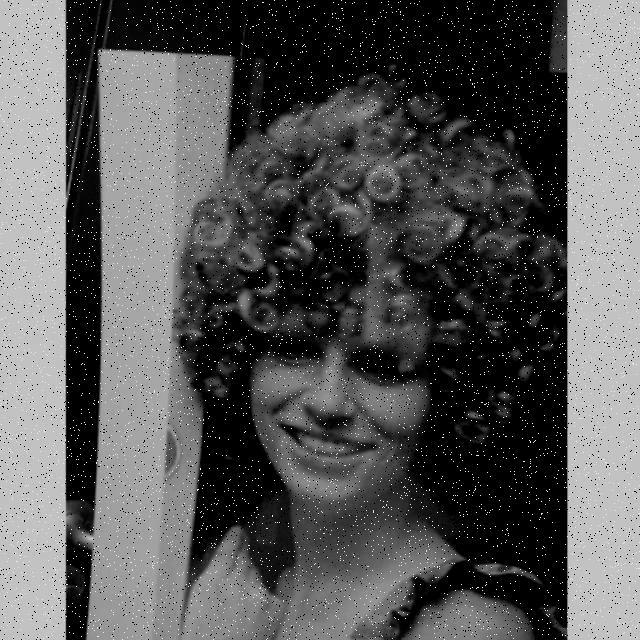fake: (89, 43, 566, 640)
